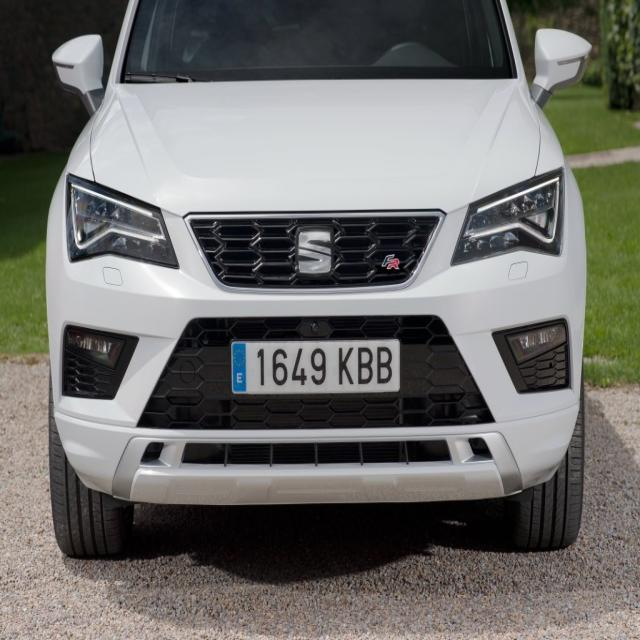license_plate-34Td: (231, 339, 399, 393)
